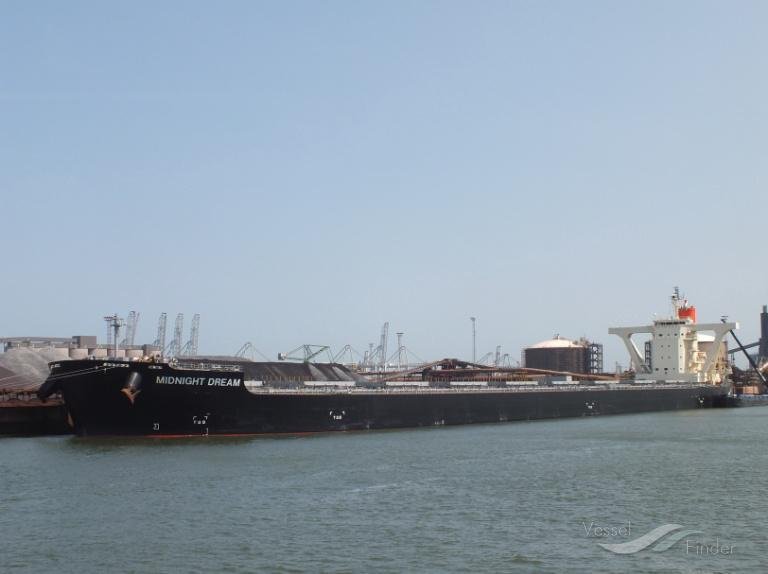OCR: (152, 371, 248, 391)
